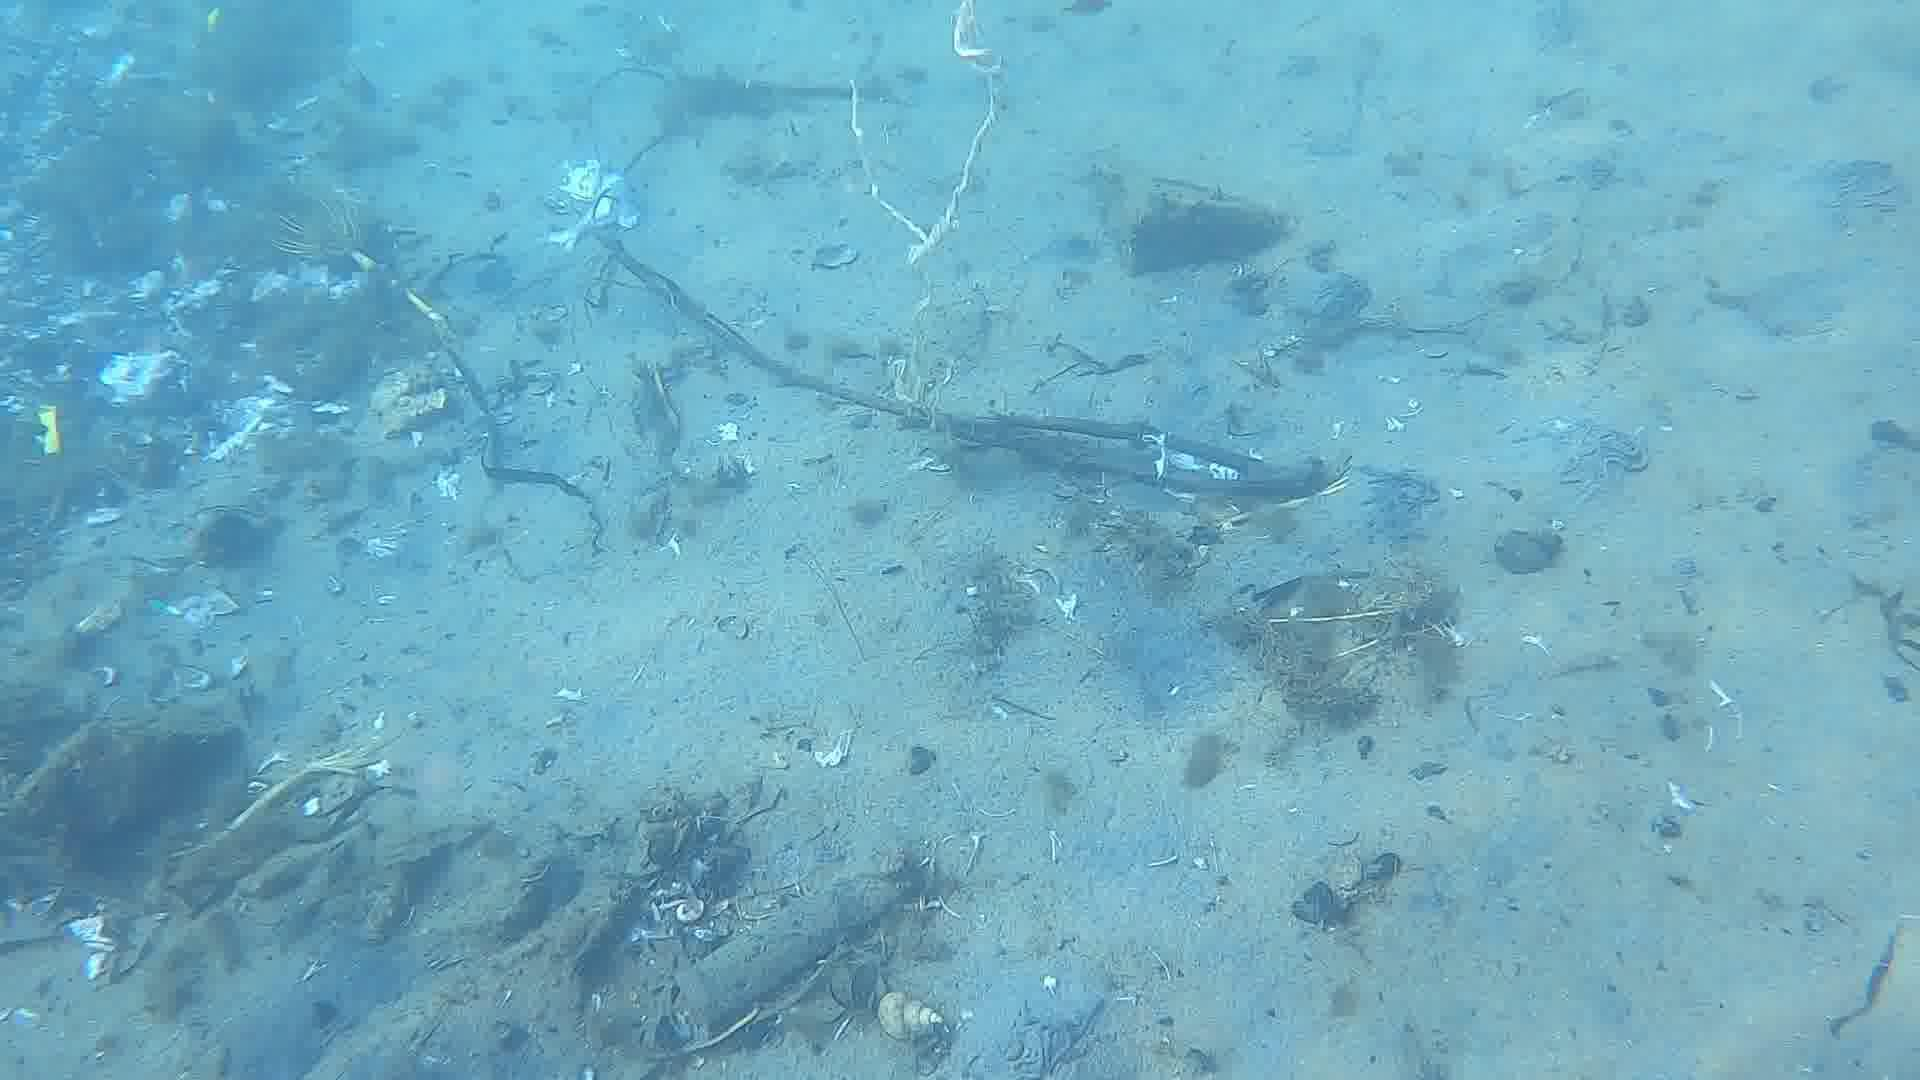wood: (607, 237, 1317, 496)
